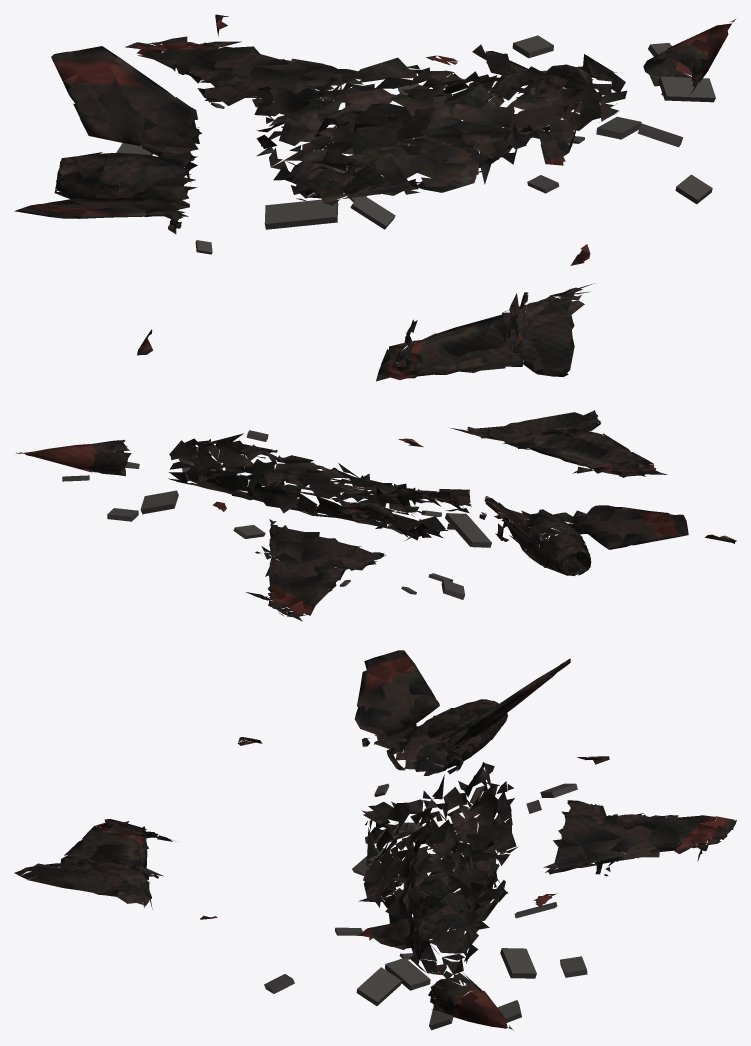
The model's file is a28_wreck_plane_sea.glb.
3 views of the same model, one above another, from view 1: azimuth 30°, elevation 25°; view 2: azimuth 150°, elevation 25°; view 3: azimuth 270°, elevation 25° (orthographic). The views are drawn at different scales.
Parts seen in each view (by area): view 1: body; view 2: body; view 3: body.
Part boxes in pixels (<box>): body: <box>14,14,736,381</box>; body: <box>14,410,736,621</box>; body: <box>14,650,736,1030</box>.
Size of the model in its own units: 1 by 0.1918 by 0.8949.
2 materials, 1 textured.
